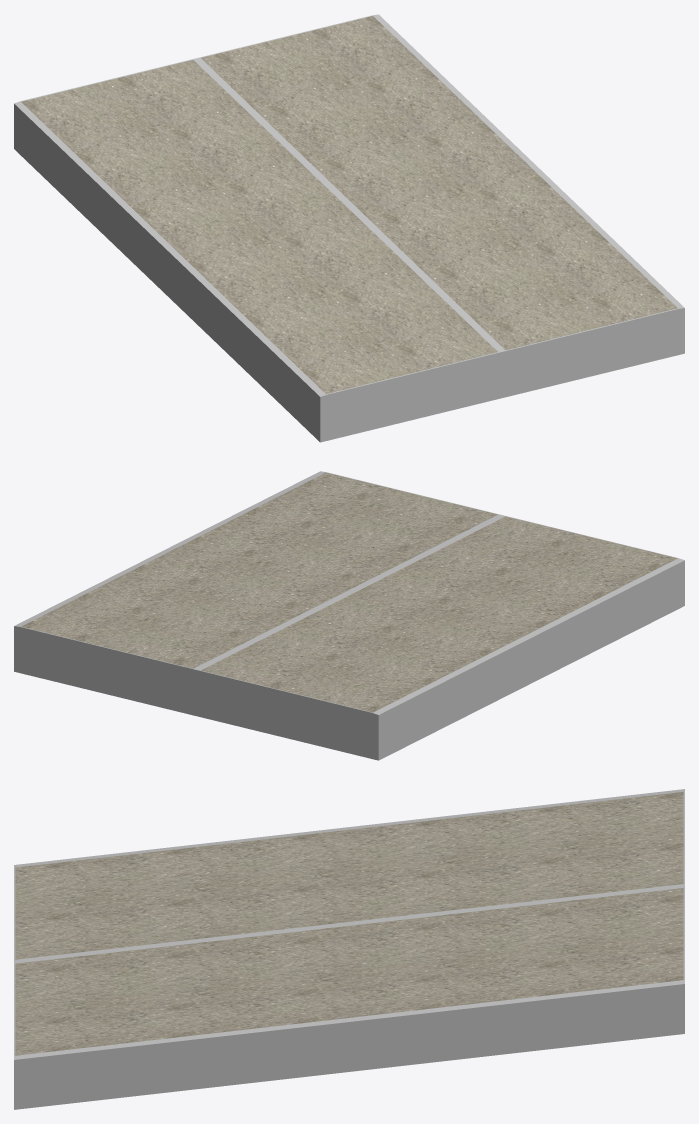
File: road_01b_sl.fbx
3 views of the same model, one above another, from view 1: azimuth 30°, elevation 25°; view 2: azimuth 150°, elevation 25°; view 3: azimuth 270°, elevation 25° (orthographic). The views are drawn at different scales.
Visible parts, largest first — view 1: road_01b_sl; view 2: road_01b_sl; view 3: road_01b_sl.
Boxes of the visible parts, left/top/right/bottom form: road_01b_sl: left=14, top=14, right=684, bottom=442; road_01b_sl: left=14, top=471, right=684, bottom=760; road_01b_sl: left=14, top=789, right=684, bottom=1109.
Size of the model in its own units: 16.5 by 5 by 24.
